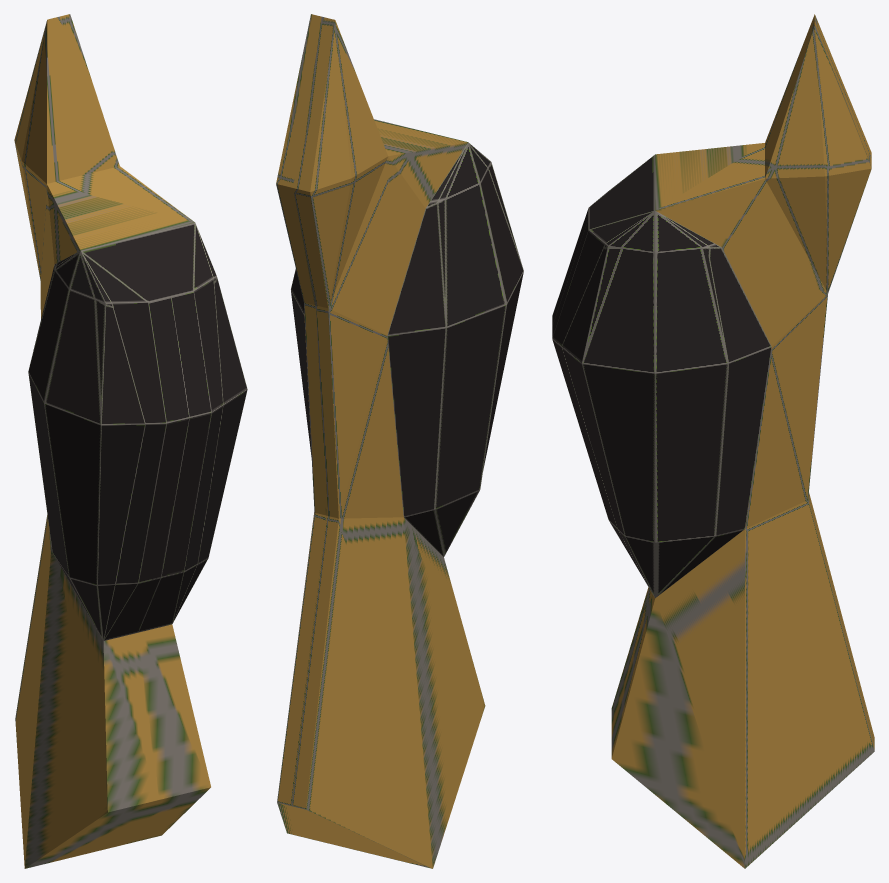
The model's file is RLeagUnder.fbx.
3 views of the same model, side by side, from view 1: azimuth 30°, elevation 25°; view 2: azimuth 150°, elevation 25°; view 3: azimuth 270°, elevation 25° (orthographic). The views are drawn at different scales.
Parts seen in each view (by area): view 1: Shape_IndexedFaceSet.051, Shape_IndexedFaceSet.050; view 2: Shape_IndexedFaceSet.050, Shape_IndexedFaceSet.051; view 3: Shape_IndexedFaceSet.050, Shape_IndexedFaceSet.051.
Boxes of the visible parts, x1,y1,x2,y2 form: Shape_IndexedFaceSet.051: (28, 222, 247, 640); Shape_IndexedFaceSet.050: (14, 14, 210, 868); Shape_IndexedFaceSet.050: (276, 14, 485, 868); Shape_IndexedFaceSet.051: (291, 142, 523, 556); Shape_IndexedFaceSet.050: (611, 14, 874, 868); Shape_IndexedFaceSet.051: (552, 154, 771, 597).
Size of the model in its own units: 0.1349 by 0.5573 by 0.1998.
